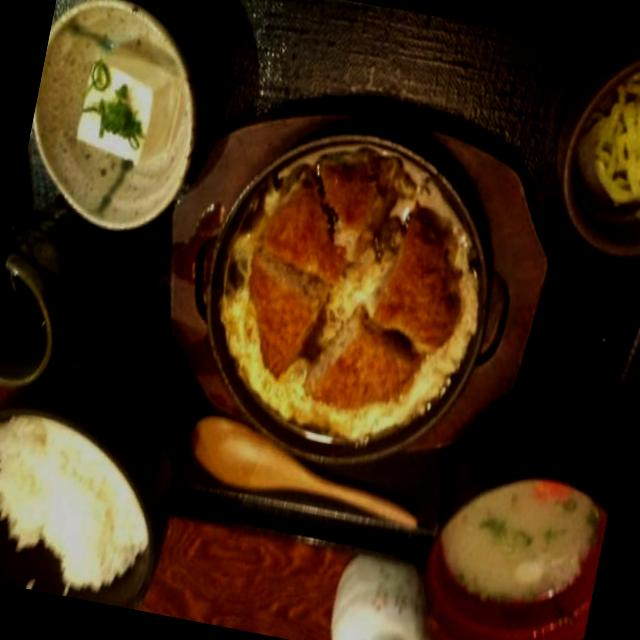Rice: (0, 405, 150, 606)
